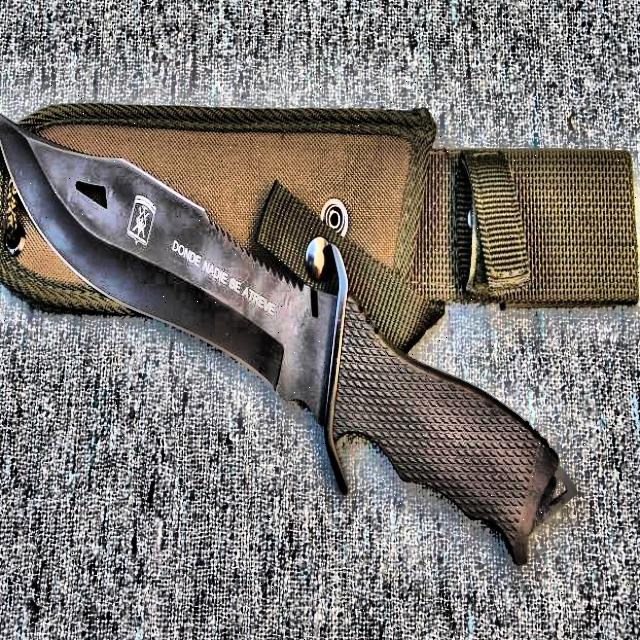knife: (0, 108, 575, 564)
